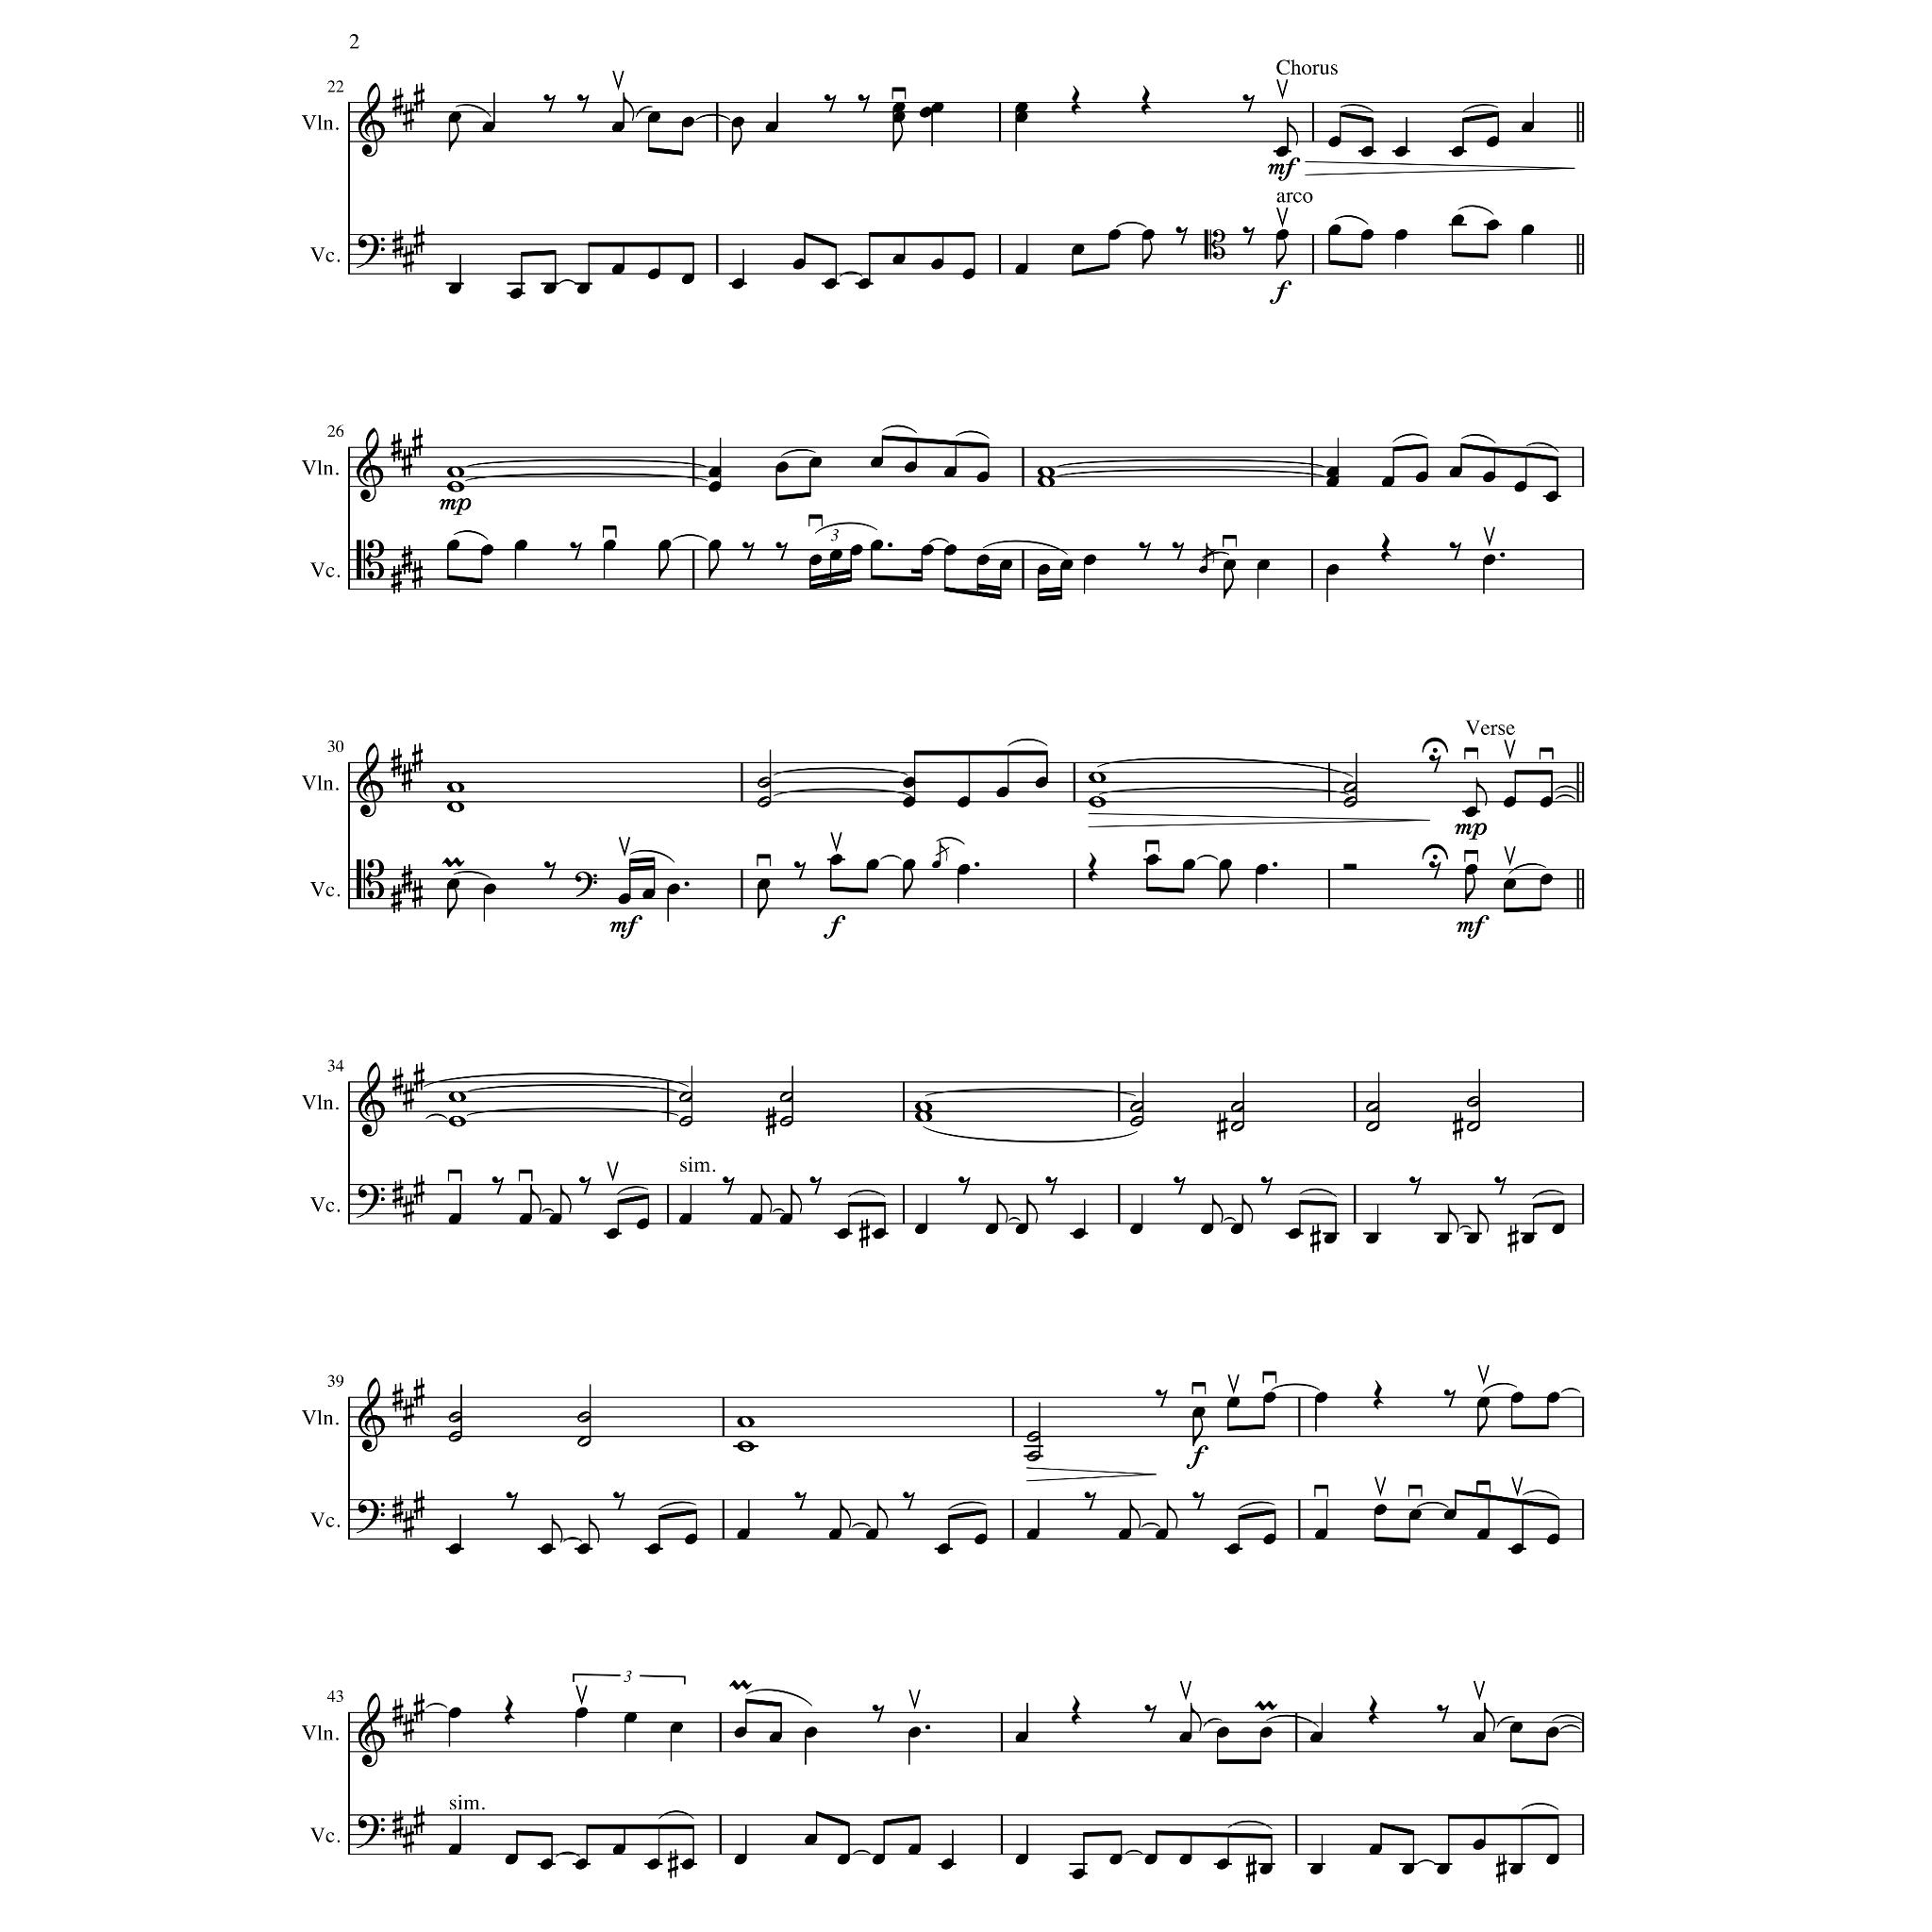fClef: (356, 234, 384, 270), (356, 1183, 384, 1219), (356, 1500, 384, 1534), (356, 1815, 384, 1849)
flag8thDown: (1141, 240, 1153, 270), (1192, 1417, 1204, 1447), (892, 123, 904, 151), (658, 551, 670, 579), (1219, 870, 1230, 898), (1477, 1407, 1489, 1436), (1277, 240, 1287, 270), (1224, 570, 1234, 600), (447, 889, 457, 919), (758, 889, 768, 919), (449, 123, 458, 151), (732, 126, 741, 155), (709, 551, 719, 579), (1466, 875, 1475, 904), (904, 870, 913, 898)
flag8thUp: (1202, 538, 1217, 564), (935, 835, 950, 861), (1288, 117, 1299, 147), (623, 92, 634, 123), (1242, 1194, 1254, 1224), (1212, 1194, 1224, 1224), (1026, 1194, 1038, 1224), (1478, 1204, 1490, 1234), (1448, 1204, 1459, 1234), (997, 1194, 1008, 1224), (1476, 778, 1488, 807), (560, 1185, 572, 1213), (530, 1185, 541, 1213), (791, 1185, 802, 1213), (761, 1185, 773, 1213), (1167, 1500, 1178, 1528), (589, 1515, 600, 1543), (551, 1515, 562, 1543), (1130, 1500, 1141, 1528), (877, 1500, 889, 1528), (841, 1500, 852, 1528), (1191, 1704, 1202, 1732), (1484, 1704, 1495, 1732)
gClef: (357, 82, 385, 158), (357, 1061, 385, 1137), (357, 1377, 385, 1453), (357, 1692, 385, 1768), (357, 427, 383, 503), (357, 742, 383, 818)
noteheadBlack: (1275, 228, 1289, 241), (1275, 145, 1289, 158), (1141, 228, 1155, 241), (1108, 228, 1121, 241), (1522, 121, 1535, 134), (1394, 145, 1407, 158), (1361, 228, 1374, 241), (1361, 145, 1374, 158), (1394, 228, 1407, 241), (1451, 145, 1464, 158), (611, 262, 625, 275), (611, 121, 625, 134), (1015, 262, 1028, 275), (509, 287, 523, 300), (482, 121, 495, 134), (892, 253, 906, 266), (765, 121, 778, 134), (1546, 491, 1559, 504), (1146, 853, 1159, 866), (1504, 877, 1517, 891), (757, 877, 770, 891), (446, 877, 459, 891), (903, 775, 916, 789), (1035, 775, 1048, 789), (829, 853, 842, 866), (1230, 1223, 1243, 1236), (1201, 1223, 1214, 1236), (1130, 1223, 1143, 1236), (1015, 1223, 1028, 1236), (1552, 1223, 1565, 1236), (914, 1223, 927, 1236), (985, 1223, 998, 1236), (1315, 1391, 1328, 1404), (1263, 1391, 1276, 1404), (1547, 1391, 1560, 1404), (1510, 1391, 1524, 1404), (1259, 1862, 1273, 1875), (1310, 1862, 1324, 1875), (1109, 1853, 1123, 1866), (1144, 1853, 1158, 1866), (1179, 1853, 1192, 1866), (1546, 1853, 1559, 1866), (1437, 1862, 1450, 1875), (1402, 1862, 1415, 1875), (1509, 1862, 1523, 1875), (624, 1711, 637, 1724), (734, 1853, 747, 1866), (505, 1853, 518, 1866), (872, 1853, 885, 1866), (837, 1853, 850, 1866), (1015, 1853, 1028, 1866), (1328, 225, 1341, 236), (1328, 137, 1341, 148), (1072, 244, 1085, 256), (1522, 225, 1535, 236), (1486, 220, 1499, 231), (1486, 137, 1499, 148), (1451, 214, 1464, 225), (576, 283, 590, 294), (681, 117, 694, 128), (731, 278, 744, 290), (731, 117, 744, 128), (681, 274, 694, 285), (647, 269, 660, 280), (647, 111, 660, 123), (448, 283, 461, 294), (448, 111, 461, 123), (542, 283, 556, 294), (892, 102, 906, 113), (892, 111, 906, 123), (858, 278, 871, 290), (1015, 102, 1028, 113), (1015, 111, 1028, 123), (962, 269, 975, 280), (931, 258, 944, 270), (931, 102, 944, 113), (919, 107, 932, 118), (824, 278, 837, 290), (792, 258, 806, 270), (1326, 476, 1340, 488), (1257, 559, 1270, 571), (1381, 476, 1394, 488), (1223, 559, 1236, 571), (999, 559, 1012, 571), (1326, 466, 1340, 477), (1326, 564, 1340, 575), (1038, 564, 1051, 575), (1083, 555, 1096, 566), (1060, 559, 1074, 571), (1449, 466, 1462, 477), (1415, 472, 1428, 483), (1514, 481, 1527, 492), (1483, 555, 1496, 566), (1483, 472, 1496, 483), (708, 540, 722, 551), (708, 466, 722, 477), (708, 481, 722, 492), (658, 540, 671, 551), (603, 540, 616, 551), (775, 461, 789, 473), (480, 544, 493, 556), (514, 540, 527, 551), (446, 540, 459, 551), (921, 544, 934, 556), (904, 461, 917, 473), (871, 540, 884, 551), (976, 555, 990, 566), (976, 472, 990, 483), (943, 544, 957, 556), (943, 466, 957, 477), (850, 544, 863, 556), (808, 555, 822, 566), (829, 549, 842, 560), (808, 457, 822, 468), (871, 457, 884, 468), (1256, 864, 1269, 875), (1182, 859, 1195, 871), (1219, 859, 1232, 871), (1504, 796, 1517, 808), (1465, 864, 1478, 875), (1465, 807, 1478, 818), (1540, 874, 1553, 885), (1540, 796, 1553, 808), (642, 889, 656, 900), (618, 893, 631, 905), (666, 884, 679, 895), (483, 884, 496, 895), (957, 864, 970, 875), (957, 796, 970, 808), (903, 859, 916, 871), (903, 796, 916, 808), (996, 787, 1009, 798), (866, 859, 879, 871), (1324, 1233, 1337, 1244), (1366, 1233, 1379, 1244), (1288, 1228, 1301, 1240), (1073, 1228, 1086, 1240), (1522, 1233, 1535, 1244), (1466, 1233, 1479, 1244), (1437, 1233, 1450, 1244), (636, 1218, 649, 1229), (678, 1213, 691, 1224), (606, 1228, 619, 1240), (548, 1213, 561, 1224), (519, 1213, 532, 1224), (448, 1213, 461, 1224), (873, 1228, 886, 1240), (779, 1213, 792, 1224), (749, 1213, 762, 1224), (837, 1228, 850, 1240), (1315, 1528, 1328, 1540), (1408, 1509, 1422, 1521), (1374, 1504, 1387, 1515), (1192, 1407, 1206, 1418), (1156, 1528, 1169, 1540), (1263, 1534, 1276, 1545), (1227, 1543, 1241, 1555), (1227, 1397, 1241, 1408), (1477, 1528, 1491, 1540), (1477, 1397, 1491, 1408), (1443, 1509, 1457, 1521), (1547, 1534, 1560, 1545), (1510, 1543, 1524, 1555), (647, 1543, 660, 1555), (576, 1543, 590, 1555), (737, 1528, 750, 1540), (685, 1534, 698, 1545), (540, 1543, 553, 1555), (448, 1543, 461, 1555), (1026, 1528, 1040, 1540), (974, 1534, 988, 1545), (937, 1543, 950, 1555), (1118, 1528, 1131, 1540), (866, 1528, 879, 1540), (828, 1528, 841, 1540), (1259, 1726, 1273, 1738), (1369, 1844, 1382, 1856), (1310, 1731, 1324, 1742), (1072, 1869, 1085, 1880), (1216, 1858, 1229, 1870), (1216, 1726, 1229, 1738), (1179, 1731, 1192, 1742), (1546, 1726, 1559, 1738), (1473, 1731, 1486, 1742), (1509, 1722, 1523, 1733), (1473, 1839, 1486, 1850), (612, 1844, 625, 1856), (575, 1858, 588, 1870), (575, 1707, 588, 1718), (734, 1726, 747, 1738), (681, 1858, 694, 1870), (670, 1722, 683, 1733), (647, 1858, 660, 1870), (540, 1858, 553, 1870), (448, 1844, 461, 1856), (448, 1707, 461, 1718), (908, 1844, 922, 1856), (908, 1726, 922, 1738), (1015, 1731, 1028, 1742), (941, 1858, 954, 1870), (804, 1726, 817, 1738), (769, 1731, 782, 1742), (804, 1834, 817, 1845), (932, 860, 941, 870), (1199, 566, 1208, 574)
noteheadHalf: (757, 775, 772, 789), (1343, 782, 1358, 793), (1343, 796, 1358, 808), (757, 796, 772, 808), (1230, 1121, 1245, 1132), (1230, 1101, 1245, 1112), (1466, 1096, 1481, 1108), (1466, 1121, 1481, 1132), (779, 1091, 794, 1103), (779, 1116, 794, 1127), (447, 1411, 462, 1423), (447, 1431, 462, 1442), (1026, 1431, 1041, 1442), (1026, 1451, 1041, 1462), (1366, 1101, 1379, 1112), (1366, 1121, 1379, 1132), (1130, 1116, 1143, 1127), (1130, 1101, 1143, 1112), (679, 1091, 692, 1103), (679, 1116, 692, 1127), (577, 1411, 591, 1423), (577, 1436, 591, 1447)
noteheadWhole: (447, 1091, 466, 1104), (447, 1115, 466, 1128), (736, 1415, 755, 1428), (736, 1440, 755, 1453), (1038, 466, 1055, 479), (447, 466, 464, 479), (447, 800, 464, 813), (1038, 476, 1055, 488), (447, 481, 464, 492), (1089, 772, 1106, 783), (1089, 796, 1106, 808), (447, 782, 464, 793), (915, 1111, 932, 1123), (915, 1101, 932, 1112)
rest8th: (1242, 94, 1256, 113), (1242, 226, 1256, 245), (1175, 226, 1189, 245), (542, 94, 556, 113), (858, 94, 871, 113), (1172, 542, 1185, 561), (1139, 542, 1152, 561), (1449, 542, 1462, 561), (774, 542, 788, 561), (741, 542, 755, 561), (1428, 861, 1441, 880), (1428, 755, 1441, 774), (543, 861, 557, 880), (793, 861, 807, 880), (1260, 1176, 1274, 1195), (1044, 1176, 1058, 1195), (1173, 1176, 1186, 1195), (1494, 1176, 1507, 1195), (578, 1176, 591, 1195), (491, 1176, 505, 1195), (958, 1176, 971, 1195), (1192, 1491, 1206, 1510), (1155, 1390, 1168, 1408), (1443, 1390, 1457, 1408), (612, 1491, 625, 1510), (793, 1491, 807, 1510), (902, 1491, 915, 1510), (1144, 1705, 1158, 1724), (1437, 1705, 1450, 1724), (872, 1705, 885, 1724), (577, 94, 589, 113), (824, 94, 836, 113), (570, 542, 581, 561), (1409, 1176, 1421, 1195), (723, 1176, 734, 1195), (809, 1176, 821, 1195), (506, 1491, 517, 1510), (1085, 1491, 1096, 1510)
restHalf: (1343, 864, 1357, 870)
restQuarter: (1071, 85, 1082, 115), (1381, 533, 1392, 563), (1368, 1695, 1379, 1725), (504, 1695, 515, 1725), (1141, 85, 1151, 115), (1089, 852, 1098, 882), (1374, 1380, 1383, 1410), (1072, 1695, 1081, 1725)
